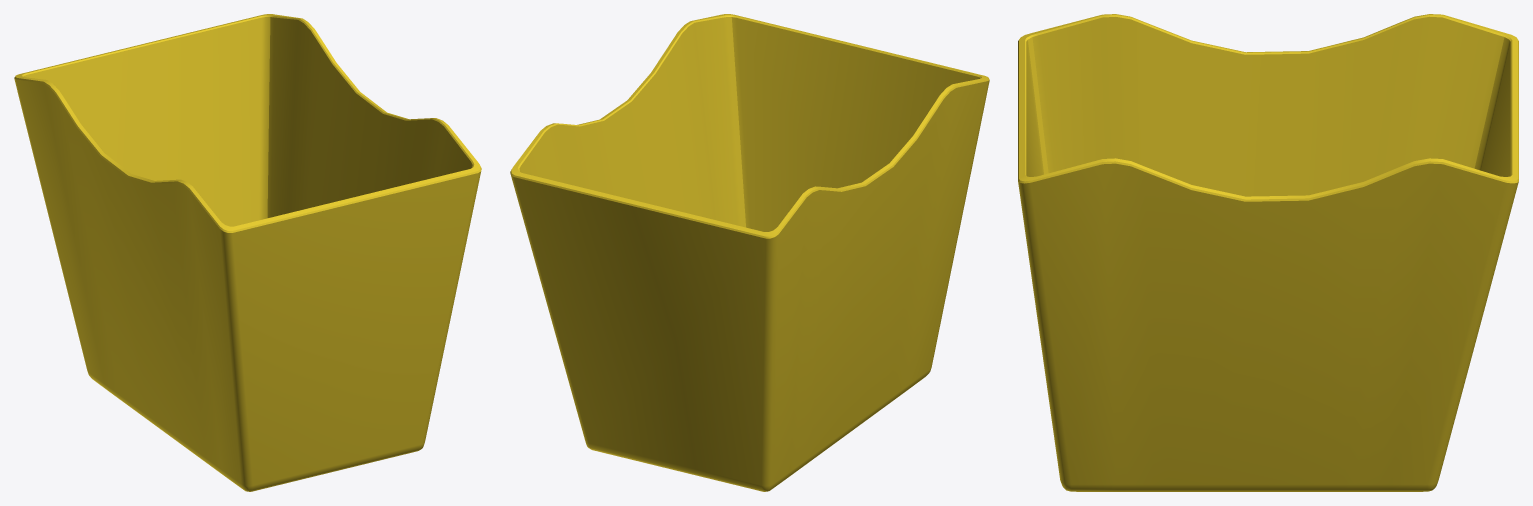
The model's file is potato_cup.fbx.
3 renders of one model, left to right at view 1: azimuth 30°, elevation 25°; view 2: azimuth 150°, elevation 25°; view 3: azimuth 270°, elevation 25°, orthographic. The views are drawn at different scales.
Parts seen in each view (by area): view 1: potato_cup; view 2: potato_cup; view 3: potato_cup.
Boxes of the visible parts, x1,y1,x2,y2 form: potato_cup: (14,14,481,491); potato_cup: (510,14,989,491); potato_cup: (1018,14,1518,491).
Bounding box in the file's own units: 111 × 124 × 158.
